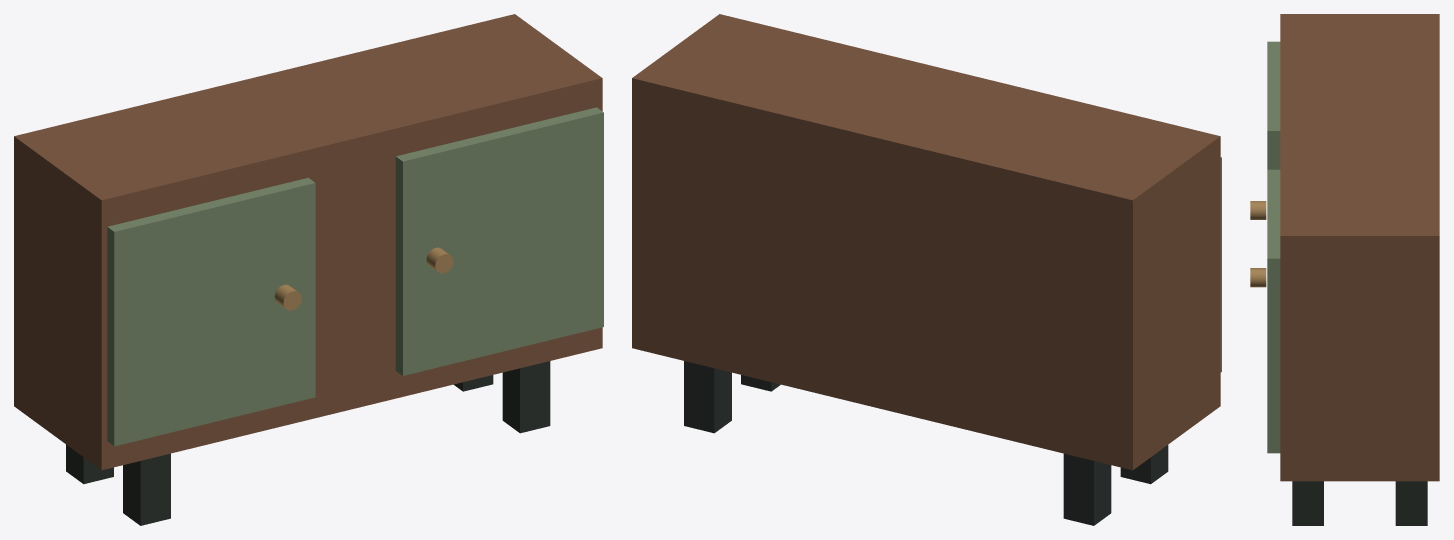
Rendered from rimba.glb.
3 renders of one model, left to right at view 1: azimuth 30°, elevation 25°; view 2: azimuth 150°, elevation 25°; view 3: azimuth 270°, elevation 25°, orthographic. The views are drawn at different scales.
Parts seen in each view (by area): view 1: body, door_left, door_right, leg (×3); view 2: body, leg (×3); view 3: body, door_right, leg (×2), door_left, knob (×2).
Boxes of the visible parts, x1=… form: body: x1=14, y1=14, x2=602, y2=470; door_left: x1=107, y1=177, x2=315, y2=446; door_right: x1=395, y1=107, x2=603, y2=375; leg (×3): x1=66, y1=361, x2=550, y2=525; body: x1=632, y1=14, x2=1220, y2=470; leg (×3): x1=684, y1=361, x2=1168, y2=525; body: x1=1280, y1=14, x2=1439, y2=481; door_right: x1=1267, y1=169, x2=1280, y2=453; leg (×2): x1=1292, y1=481, x2=1427, y2=525; door_left: x1=1267, y1=41, x2=1280, y2=169; knob (×2): x1=1250, y1=201, x2=1266, y2=287.
Bounding box in the file's own units: 1.32 × 0.86 × 0.475.
